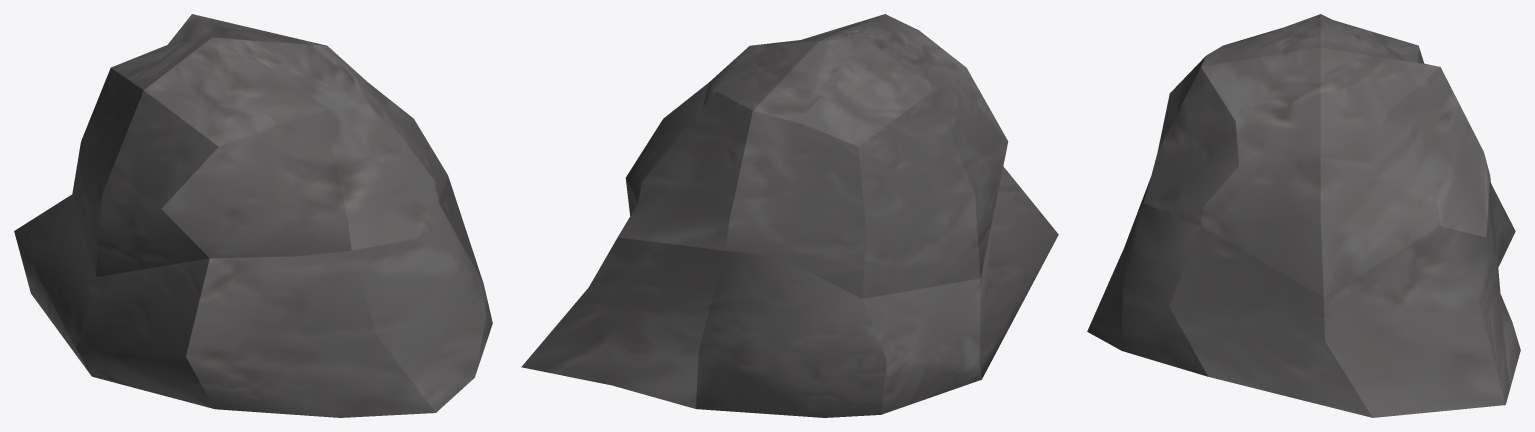
The model's file is stone_1.fbx.
The picture shows the model from 3 angles, left to right: view 1: azimuth 30°, elevation 25°; view 2: azimuth 150°, elevation 25°; view 3: azimuth 270°, elevation 25°; orthographic projection. The views are drawn at different scales.
Visible parts, largest first — view 1: pPlatonic4; view 2: pPlatonic4; view 3: pPlatonic4.
Boxes of the visible parts, box(x1,y1,x2,y2) form: pPlatonic4: box(14, 14, 492, 417); pPlatonic4: box(521, 14, 1058, 417); pPlatonic4: box(1087, 14, 1520, 417).
Bounding box in the file's own units: 50.67 × 39.82 × 54.04.
Materials: 1 (1 with a texture image).
